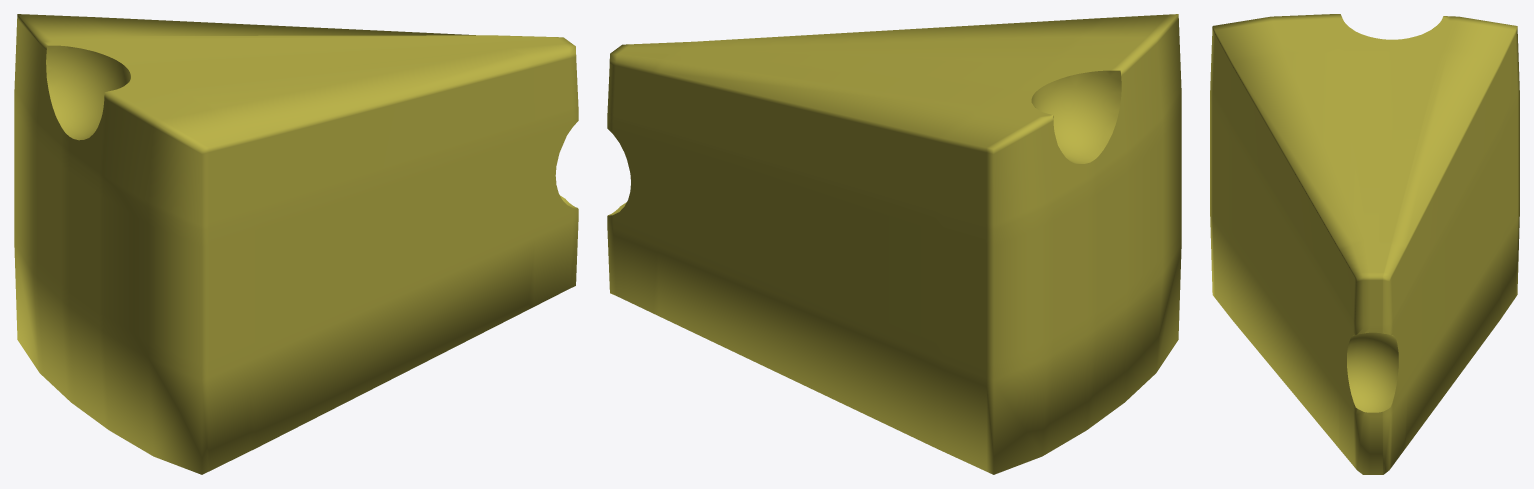
File: cheese.glb
3 views of the same model, side by side, from view 1: azimuth 30°, elevation 25°; view 2: azimuth 150°, elevation 25°; view 3: azimuth 270°, elevation 25° (orthographic). The views are drawn at different scales.
Parts seen in each view (by area): view 1: cheese2_low; view 2: cheese2_low; view 3: cheese2_low.
Boxes of the visible parts, x1,y1,x2,y2 form: cheese2_low: [14, 14, 578, 474]; cheese2_low: [607, 14, 1181, 474]; cheese2_low: [1210, 14, 1519, 474].
Bounding box in the file's own units: 291 × 189 × 192.
Materials: 1 (1 with a texture image).
